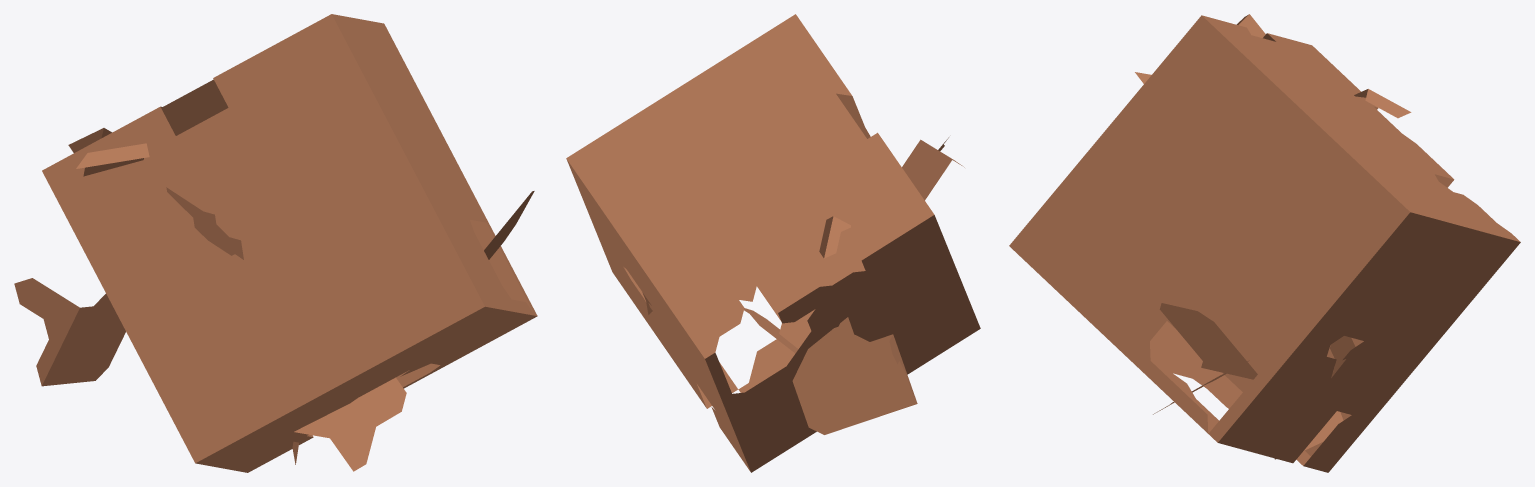
The model's file is explode_000012.obj.
3 views of the same model, side by side, from view 1: azimuth 30°, elevation 25°; view 2: azimuth 150°, elevation 25°; view 3: azimuth 270°, elevation 25° (orthographic). The views are drawn at different scales.
Parts seen in each view (by area): view 1: Cube_Cube.001; view 2: Cube_Cube.001; view 3: Cube_Cube.001.
Part boxes in pixels (x1=…): Cube_Cube.001: x1=14, y1=14, x2=537, y2=472; Cube_Cube.001: x1=566, y1=14, x2=980, y2=472; Cube_Cube.001: x1=1009, y1=14, x2=1520, y2=472.
Bounding box in the file's own units: 3.11 × 3.36 × 3.36.
